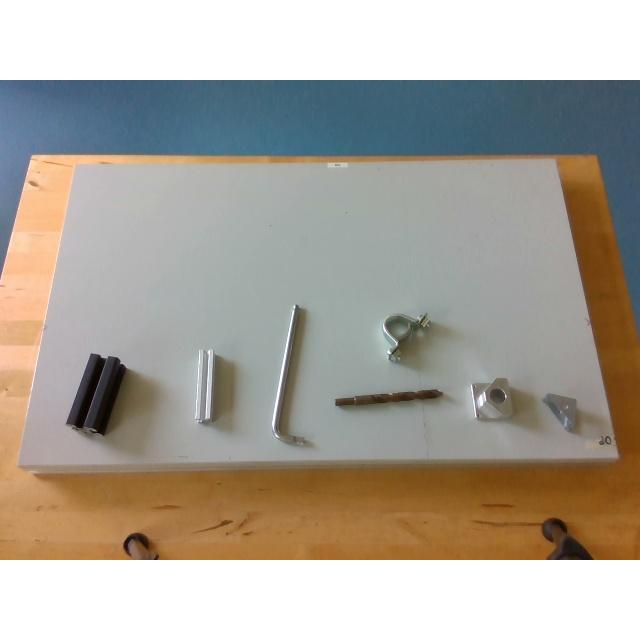AllenKey: (270, 302, 308, 448)
Drill: (333, 388, 443, 408)
F20_20_G: (194, 350, 213, 422)
Housing: (382, 313, 431, 361)
S40_40_B: (66, 354, 124, 434)
